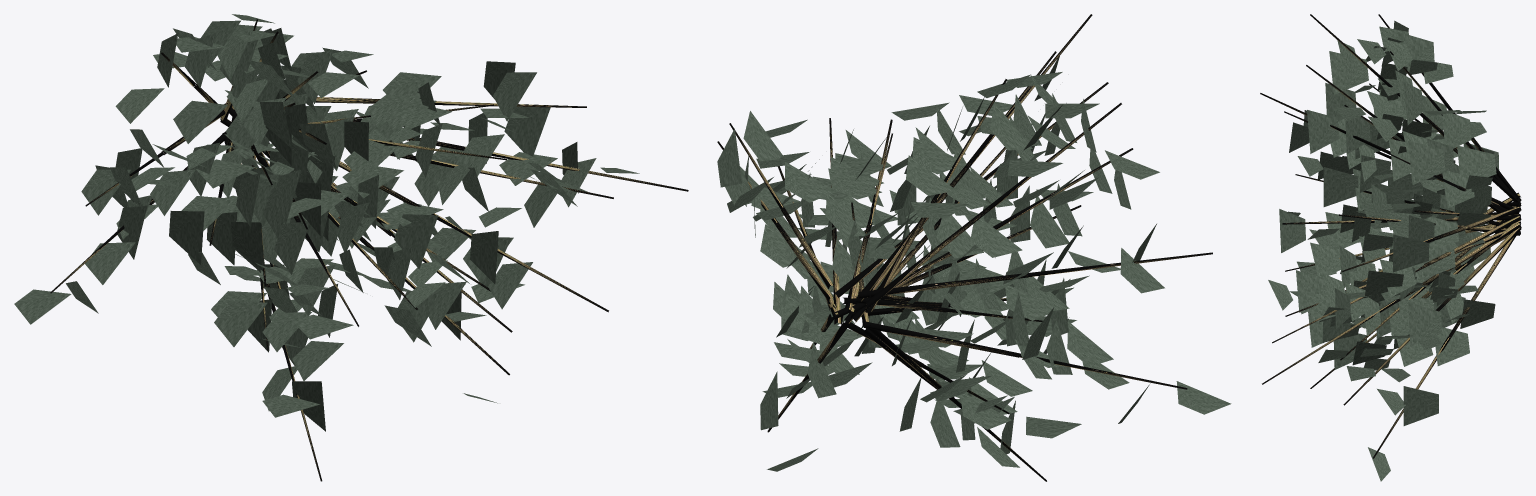
Rendered from PZ_ALP_04_Mountain_Willow_Shrub.glb.
The picture shows the model from 3 angles, left to right: view 1: azimuth 30°, elevation 25°; view 2: azimuth 150°, elevation 25°; view 3: azimuth 270°, elevation 25°; orthographic projection. The views are drawn at different scales.
Parts seen in each view (by area): view 1: Leaves_AlphaMaskedCards, WoodyBranchNetwork; view 2: Leaves_AlphaMaskedCards, WoodyBranchNetwork; view 3: Leaves_AlphaMaskedCards, WoodyBranchNetwork.
Part boxes in pixels (left/top/right/bottom): Leaves_AlphaMaskedCards: left=14, top=14, right=639, bottom=431; WoodyBranchNetwork: left=50, top=19, right=688, bottom=481; Leaves_AlphaMaskedCards: left=717, top=56, right=1231, bottom=471; WoodyBranchNetwork: left=717, top=14, right=1212, bottom=481; Leaves_AlphaMaskedCards: left=1268, top=20, right=1499, bottom=481; WoodyBranchNetwork: left=1260, top=14, right=1521, bottom=458.
Size of the model in its own units: 1.76 by 1.38 by 0.8915.
2 materials, 2 textured.
